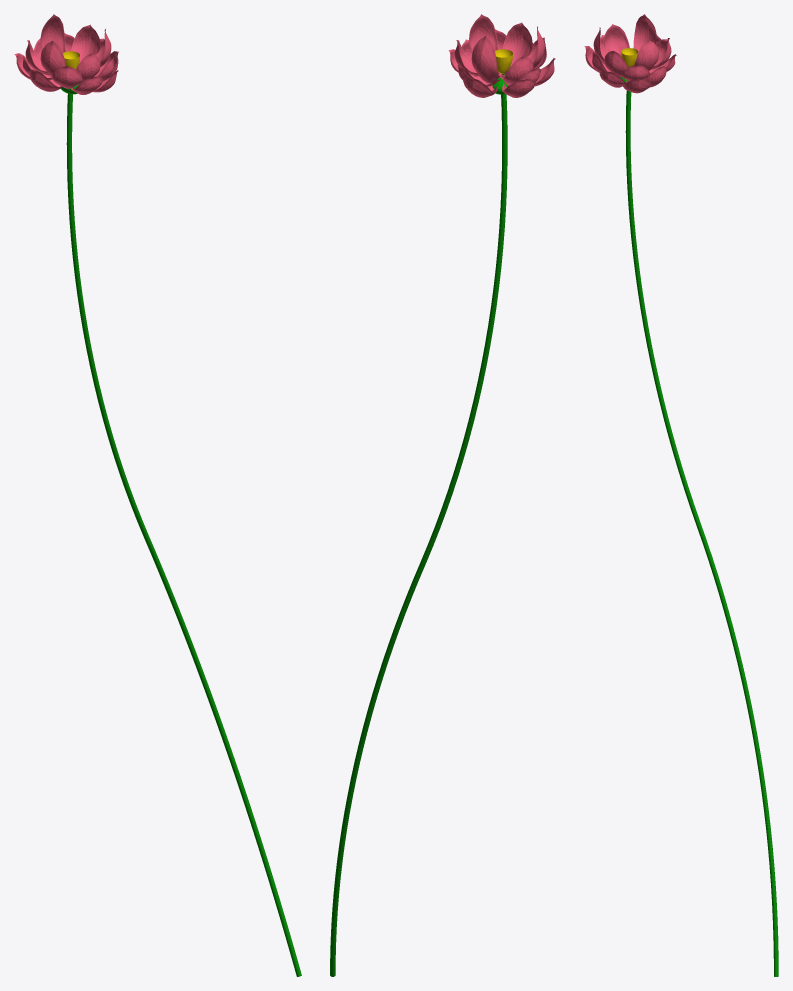
File: Lotus063.fbx
3 renders of one model, left to right at view 1: azimuth 30°, elevation 25°; view 2: azimuth 150°, elevation 25°; view 3: azimuth 330°, elevation 25°, orthographic. The views are drawn at different scales.
Parts seen in each view (by area): view 1: pCylinder5, nurbsToPoly19, nurbsToPoly23; view 2: pCylinder5, nurbsToPoly23, nurbsToPoly18, nurbsToPoly22, nurbsToPoly20; view 3: pCylinder5, nurbsToPoly23, nurbsToPoly20, nurbsToPoly22.
Boxes of the visible parts, bbox=[...] form: pCylinder5: bbox=[66, 93, 301, 976]; nurbsToPoly19: bbox=[71, 24, 99, 63]; nurbsToPoly23: bbox=[40, 14, 65, 52]; pCylinder5: bbox=[330, 94, 507, 976]; nurbsToPoly23: bbox=[471, 36, 500, 83]; nurbsToPoly18: bbox=[499, 22, 532, 74]; nurbsToPoly22: bbox=[469, 14, 498, 51]; nurbsToPoly20: bbox=[500, 56, 533, 84]; pCylinder5: bbox=[625, 90, 778, 976]; nurbsToPoly23: bbox=[633, 14, 656, 51]; nurbsToPoly20: bbox=[603, 24, 629, 55]; nurbsToPoly22: bbox=[634, 40, 658, 70].
Bounding box in the file's own units: 52.48 × 203 × 24.35.
